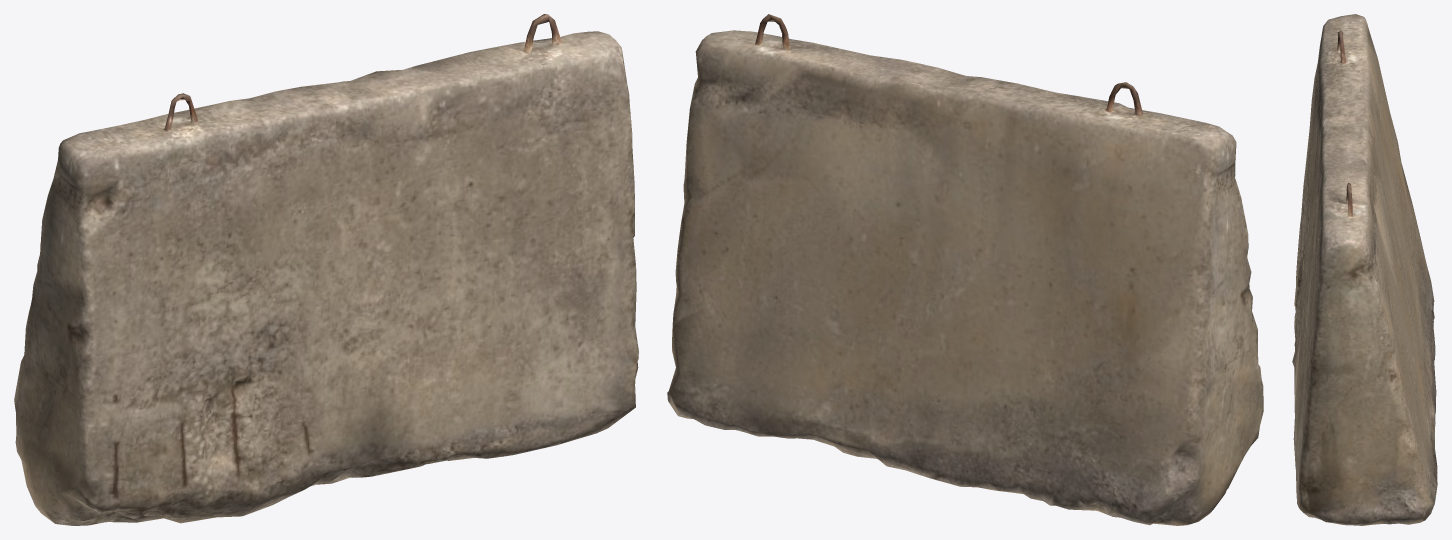
The model's file is concrete_road_barrier_02_1k.gltf.
3 views of the same model, side by side, from view 1: azimuth 30°, elevation 25°; view 2: azimuth 150°, elevation 25°; view 3: azimuth 270°, elevation 25° (orthographic). The views are drawn at different scales.
Visible parts, largest first — view 1: concrete_road_barrier_02; view 2: concrete_road_barrier_02; view 3: concrete_road_barrier_02.
Boxes of the visible parts, x1,y1,x2,y2 form: concrete_road_barrier_02: (14,14,638,525); concrete_road_barrier_02: (667,14,1263,525); concrete_road_barrier_02: (1292,14,1437,525).
Size of the model in its own units: 1.56 by 1.11 by 0.4418.
1 material, 1 textured.
